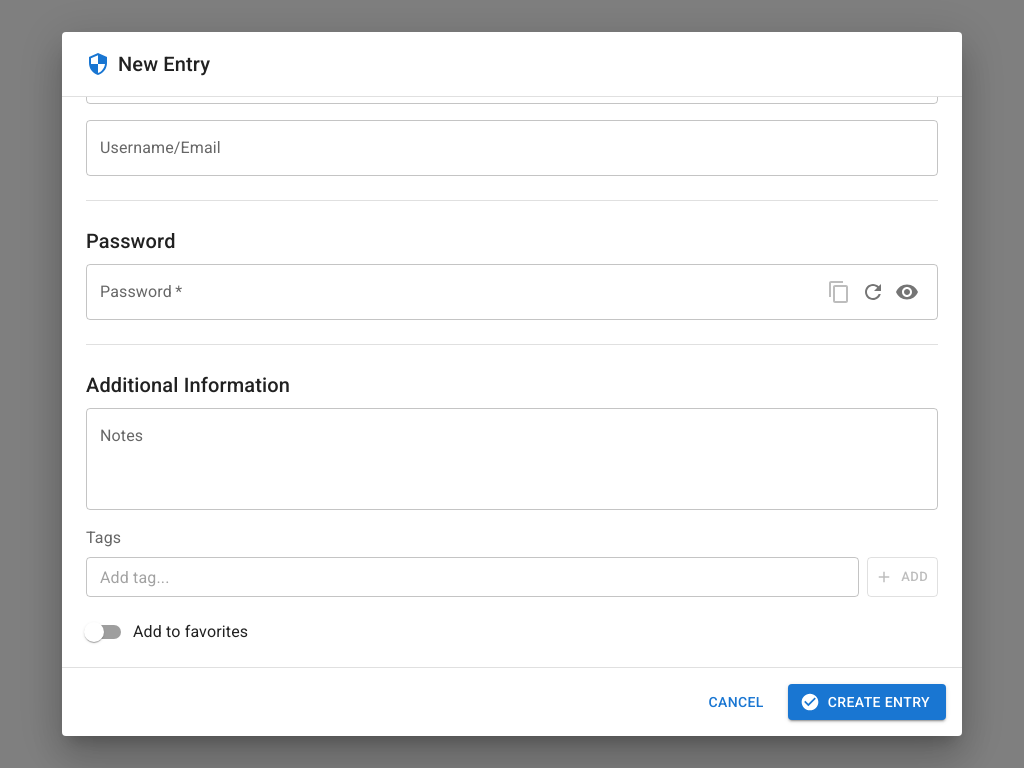
Test case: VaultEntryForm › Tags Management › adds new tags
(page scrolled)
Type "work" into the field with placeholder "Add tag..." at (473, 577), box [86,557,859,597]
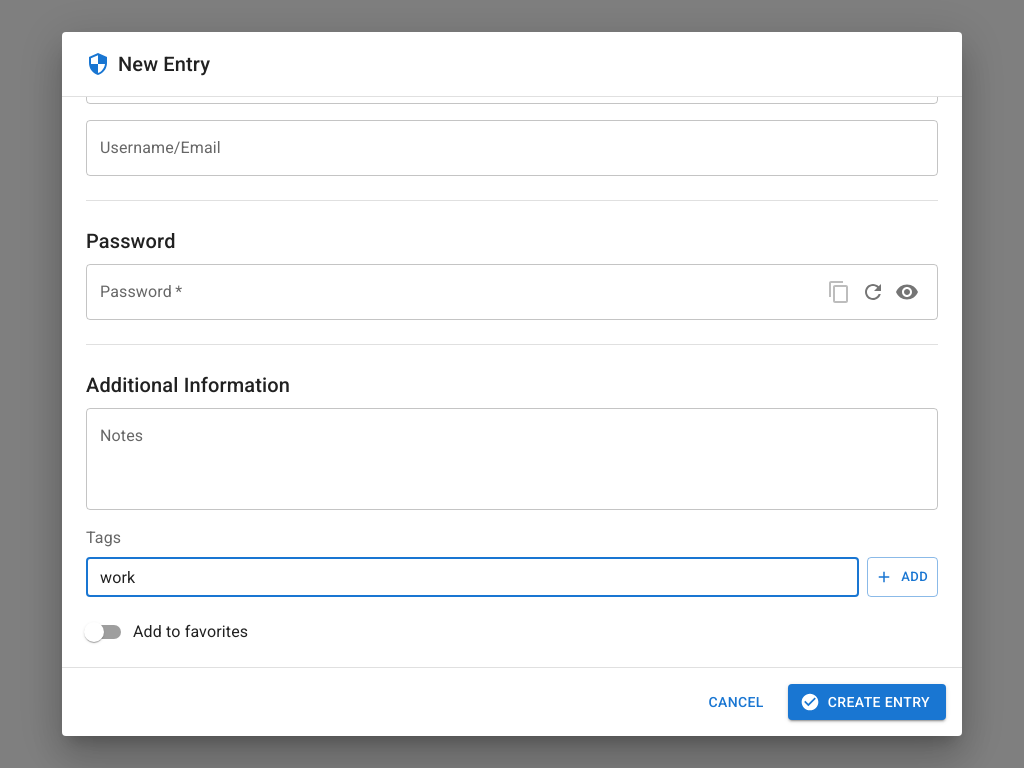
Click the button "Add" at (903, 577), box [867,557,938,597]
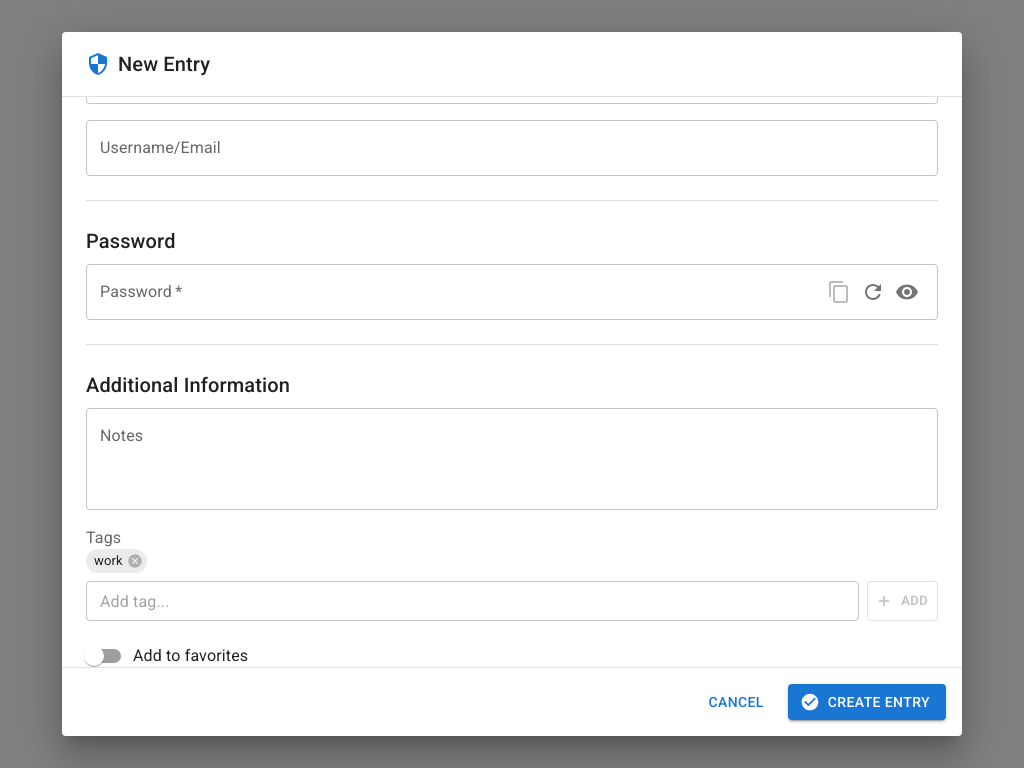
Expected: the text "work" is shown, [94,553,123,568]
Expected: the field with placeholder "Add tag..." is empty, [86,581,859,621]
